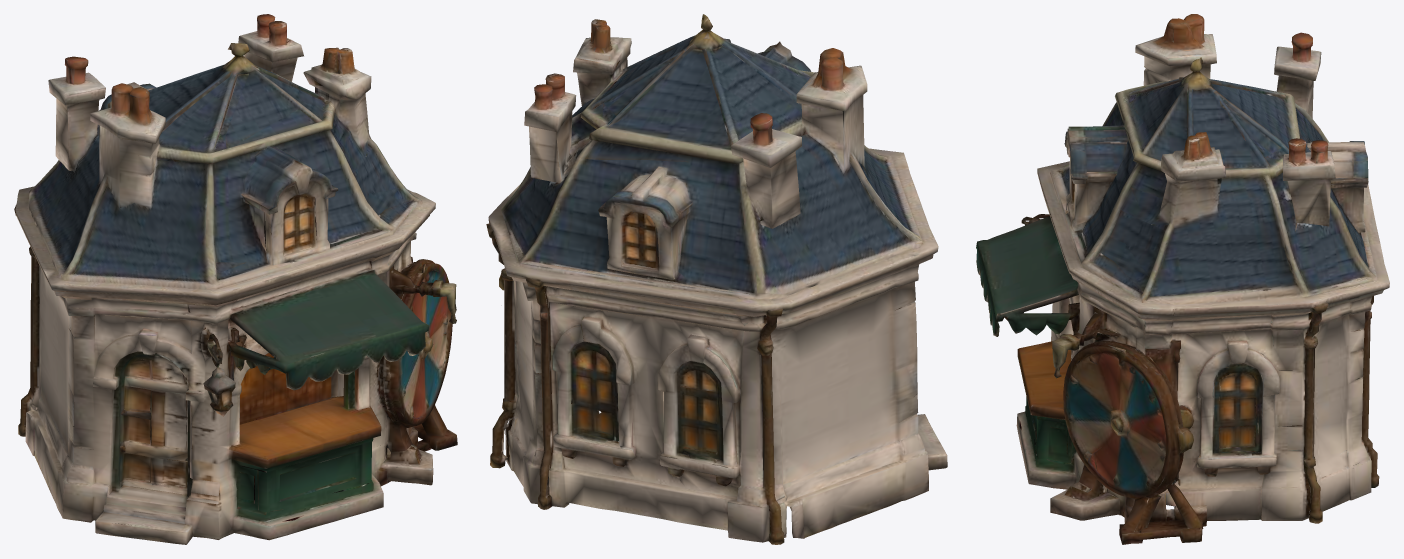
The model's file is chance_wheel.glb.
3 renders of one model, left to right at view 1: azimuth 30°, elevation 25°; view 2: azimuth 150°, elevation 25°; view 3: azimuth 270°, elevation 25°, orthographic. The views are drawn at different scales.
Parts seen in each view (by area): view 1: classic__chance_wheel__neural_lod, classic__chance_wheel__neural_wheel; view 2: classic__chance_wheel__neural_lod; view 3: classic__chance_wheel__neural_lod, classic__chance_wheel__neural_wheel.
Boxes of the visible parts, <box> form: classic__chance_wheel__neural_lod: <box>14,14,457,544</box>; classic__chance_wheel__neural_wheel: <box>383,260,452,437</box>; classic__chance_wheel__neural_lod: <box>486,14,947,544</box>; classic__chance_wheel__neural_lod: <box>976,14,1389,544</box>; classic__chance_wheel__neural_wheel: <box>1063,341,1169,500</box>.
Bounding box in the file's own units: 0.9998 × 0.9905 × 0.9196.
1 material, 1 textured.
